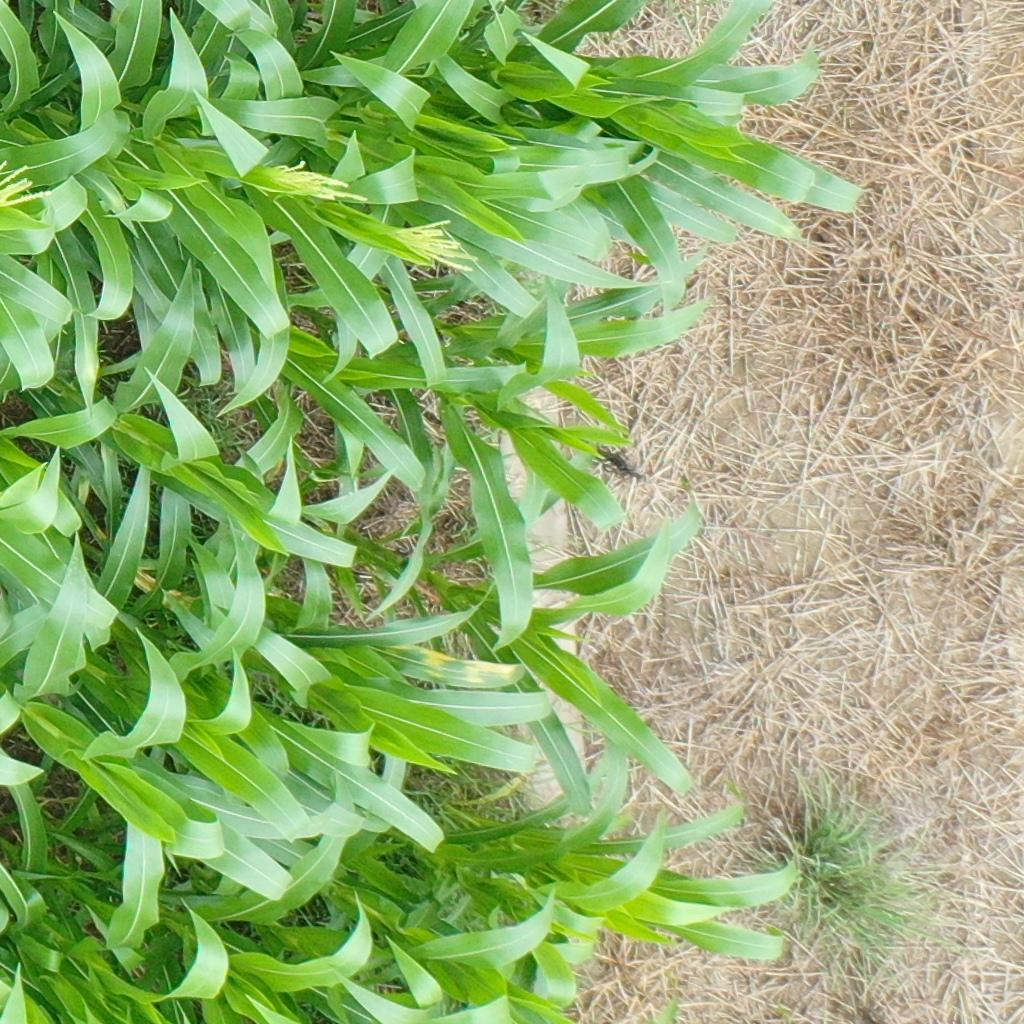Tassel: (252, 157, 372, 209), (393, 218, 486, 277), (1, 149, 54, 215)
